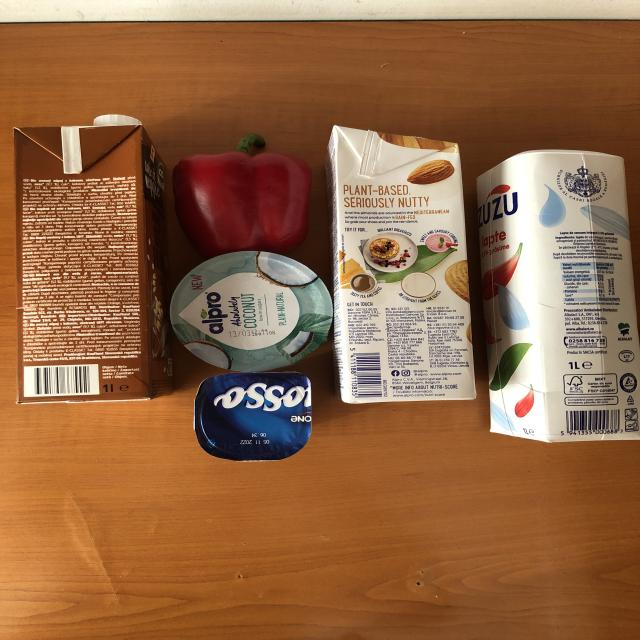milk: (475, 148, 640, 446), (10, 114, 178, 406), (325, 123, 478, 405)
pepper: (170, 133, 314, 259)
yogurt: (166, 250, 335, 374), (194, 371, 314, 462)
